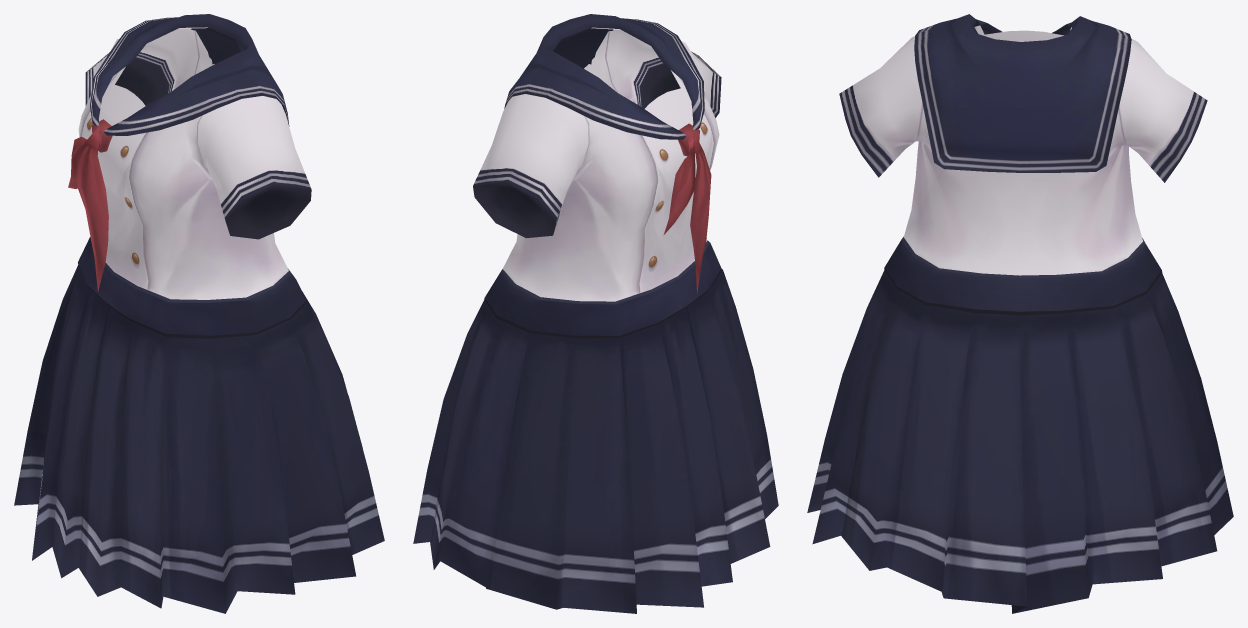
File: miilady_uniform_sailor.gltf
The picture shows the model from 3 angles, left to right: view 1: azimuth 30°, elevation 25°; view 2: azimuth 150°, elevation 25°; view 3: azimuth 270°, elevation 25°; orthographic projection. The views are drawn at different scales.
Parts seen in each view (by area): view 1: Milady_clothing; view 2: Milady_clothing; view 3: Milady_clothing.
Part boxes in pixels (left/top/right/bottom): Milady_clothing: left=14, top=14, right=384, bottom=613; Milady_clothing: left=413, top=14, right=778, bottom=613; Milady_clothing: left=807, top=14, right=1233, bottom=613.
Size of the model in its own units: 0.3821 by 0.6539 by 0.4745.
Materials: 1 (1 with a texture image).
